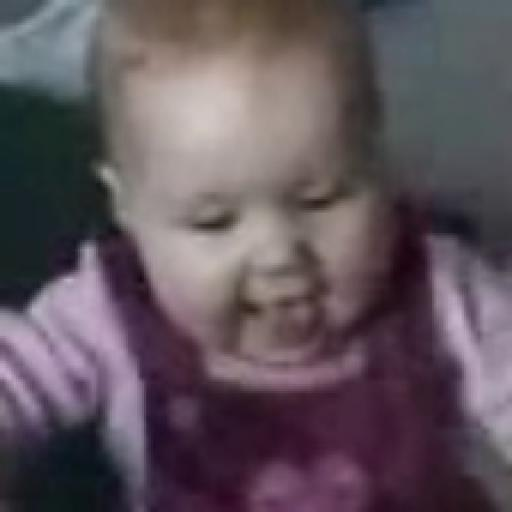Autism: (63, 5, 492, 512)
